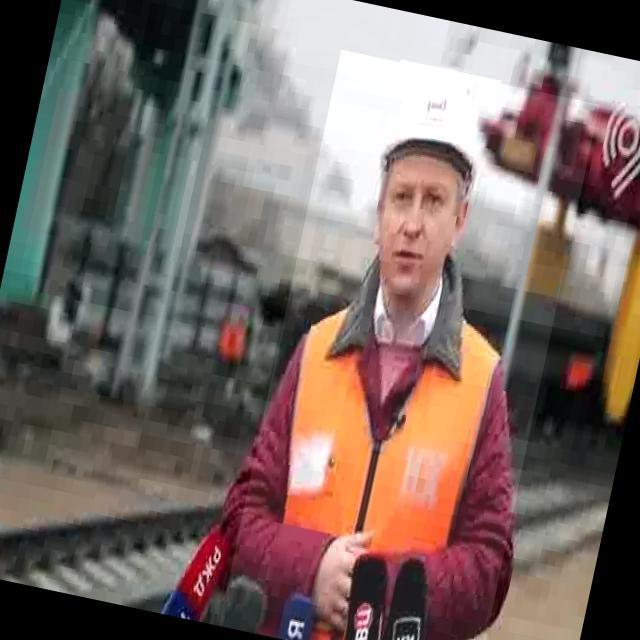Helmet: (376, 59, 501, 196)
Human: (218, 49, 599, 640)
Safety Vest: (241, 278, 523, 640)
